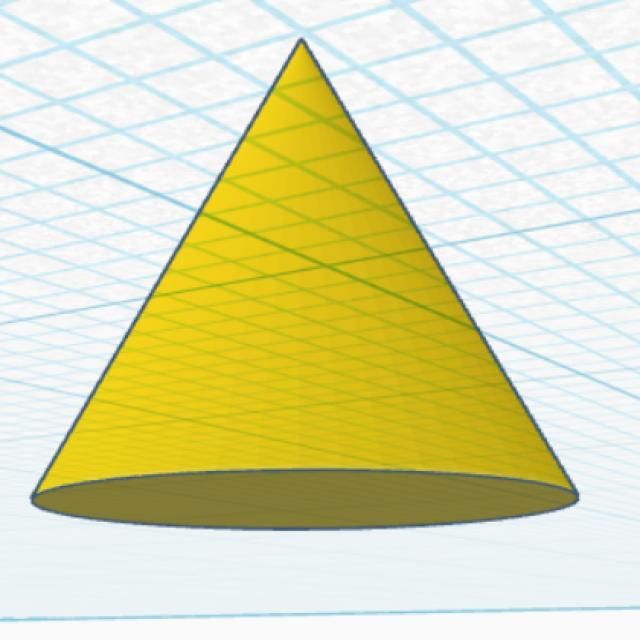cone: (28, 33, 584, 534)
